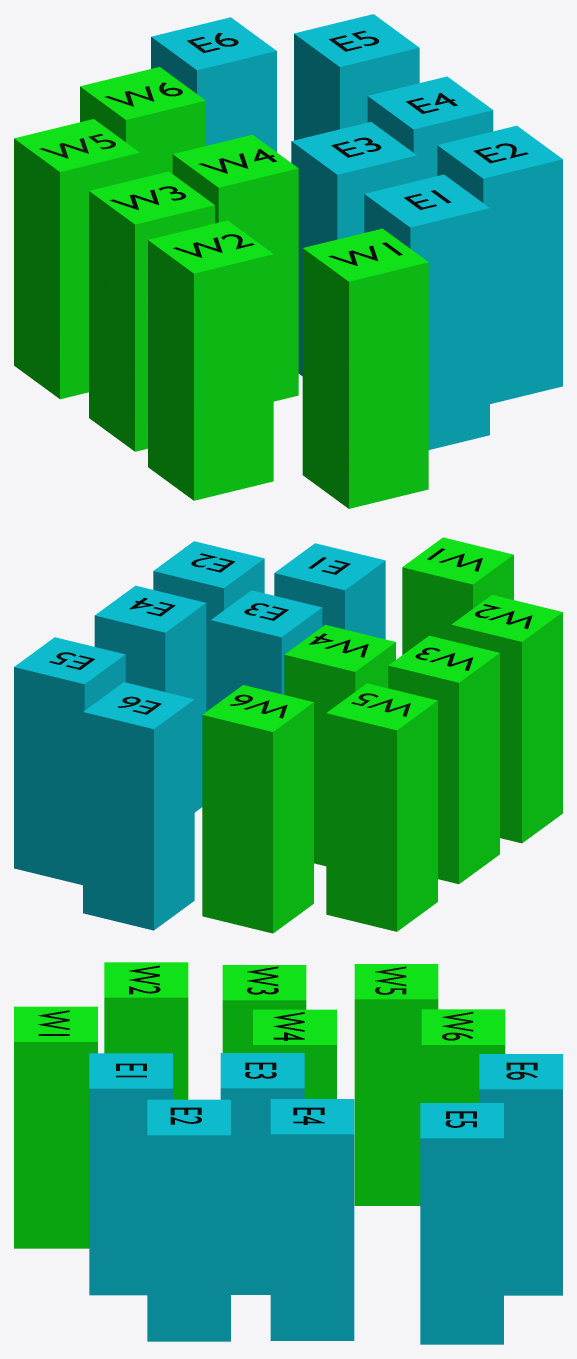
Rendered from campuss.glb.
The picture shows the model from 3 angles, top to bottom: view 1: azimuth 30°, elevation 25°; view 2: azimuth 150°, elevation 25°; view 3: azimuth 270°, elevation 25°; orthographic projection. The views are drawn at different scales.
Parts seen in each view (by area): view 1: W1, W2, W5, E2, E1, W3, W4, E5, E3, E6, W6, E4; view 2: E6, W5, W6, E5, W3, W2, E4, W4, E3, W1, E1, E2; view 3: E4, E2, E5, W1, W5, E1, E6, E3, W2, W6, W4, W3.
Part boxes in pixels (x1,y1,x2,y2): W1: (302,228,428,508); W2: (148,220,273,500); W5: (14,119,139,399); E2: (437,125,562,403); E1: (364,174,489,449); W3: (89,171,214,451); W4: (172,134,298,401); E5: (294,14,419,140); E3: (291,122,416,376); E6: (151,17,276,151); W6: (80,67,205,178); E4: (367,76,493,180); E6: (83,682,194,930); W5: (326,683,437,931); W6: (202,685,313,933); E5: (14,637,125,885); W3: (388,635,499,883); W2: (451,595,562,843); E4: (94,585,206,812); W4: (284,624,395,866); E3: (211,590,322,707); W1: (402,537,513,654); E1: (274,543,385,639); E2: (153,541,264,711); E4: (270,1099,354,1340); E2: (147,1099,230,1341); E5: (420,1103,503,1344); W1: (14,1006,97,1248); W5: (354,964,438,1205); E1: (89,1053,172,1295); E6: (479,1054,562,1295); E3: (220,1053,304,1294); W2: (104,962,188,1099); W6: (421,1009,505,1102); W4: (253,1009,336,1098); W3: (222,965,306,1052).
Size of what is drawn, in the model's own units: 9.22 by 5.08 by 12.07.
